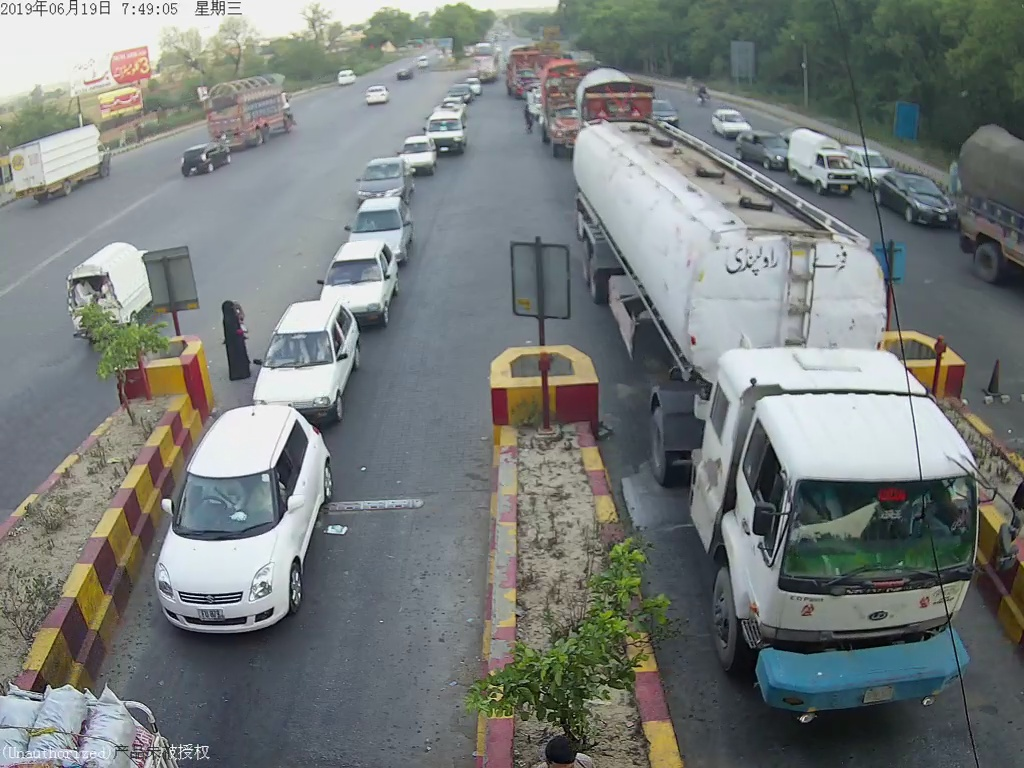Cat-1: (151, 401, 339, 631), (243, 302, 355, 416), (314, 239, 397, 325), (345, 201, 416, 259), (345, 153, 412, 203)
Cat-4: (531, 60, 586, 155)
Cat-5: (593, 138, 995, 710)
